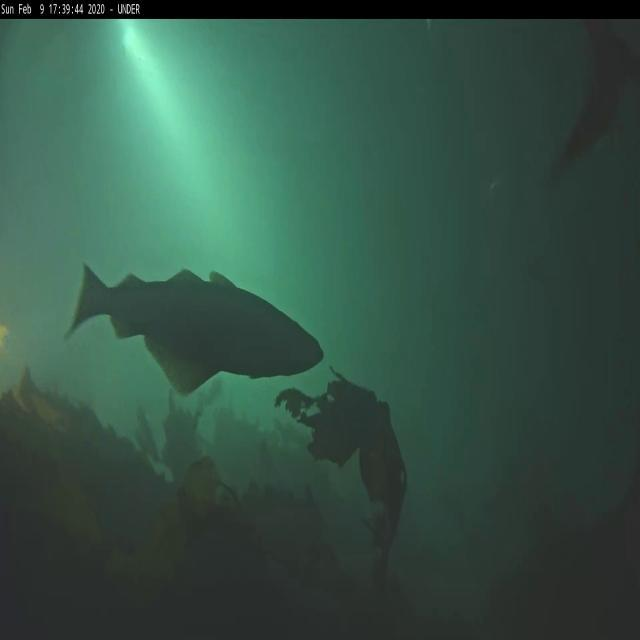fish: (70, 260, 324, 392)
